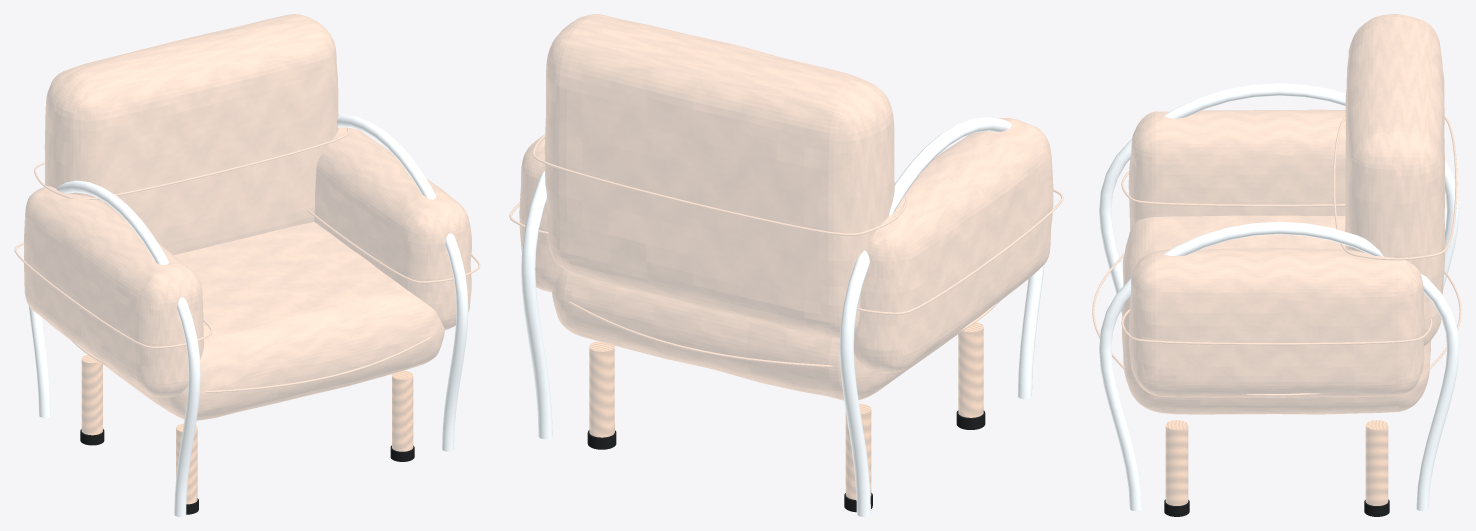
File: ref05_02.glb
3 renders of one model, left to right at view 1: azimuth 30°, elevation 25°; view 2: azimuth 150°, elevation 25°; view 3: azimuth 270°, elevation 25°, orthographic. The views are drawn at different scales.
Visible parts, largest first — view 1: ref05_02; view 2: ref05_02; view 3: ref05_02.
Boxes of the visible parts, left/top/right/bottom form: ref05_02: left=14, top=14, right=480, bottom=516; ref05_02: left=509, top=14, right=1063, bottom=516; ref05_02: left=1092, top=14, right=1461, bottom=516.
Bounding box in the file's own units: 0.9449 × 0.9341 × 0.8127.
4 materials, 2 textured.
